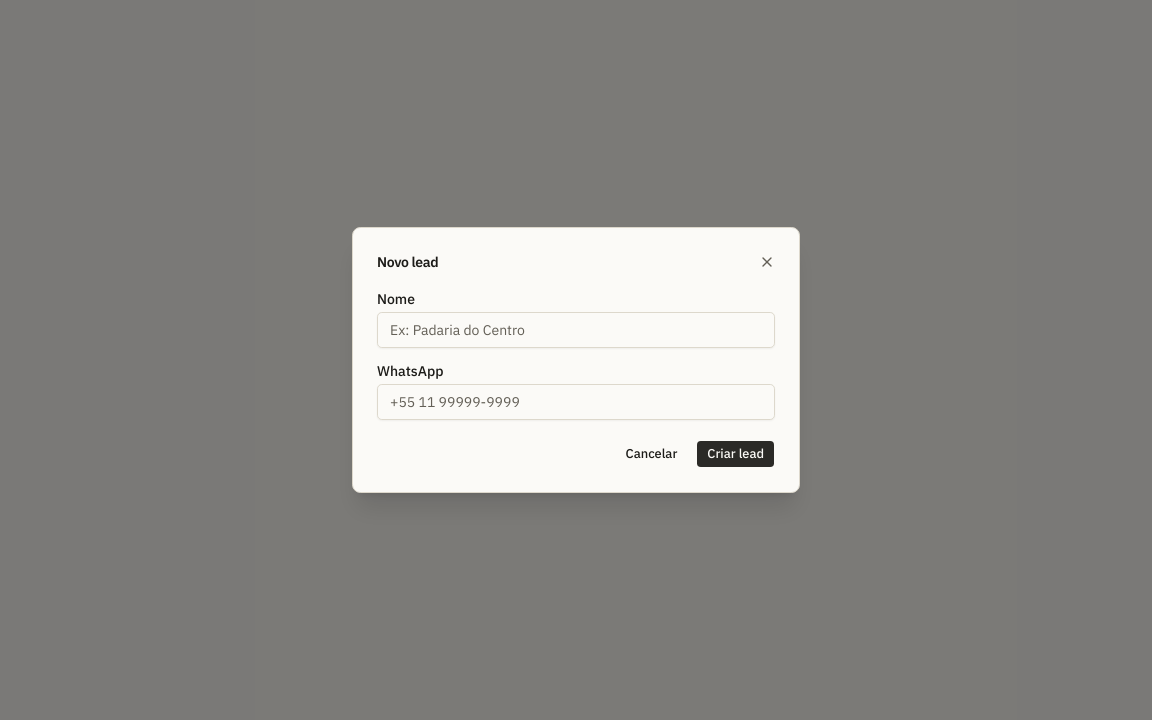
Test case: B48-04 — salvar confirma › CA-B48-09: criar lead mostra 'Lead criado'
This screenshot has width=1152, height=720.
B48-18: o Novo lead pede o nome (obrigatório) e depois o WhatsApp
In the field labelled "Nome": (576,330) [377,312,775,348], type "Ana"
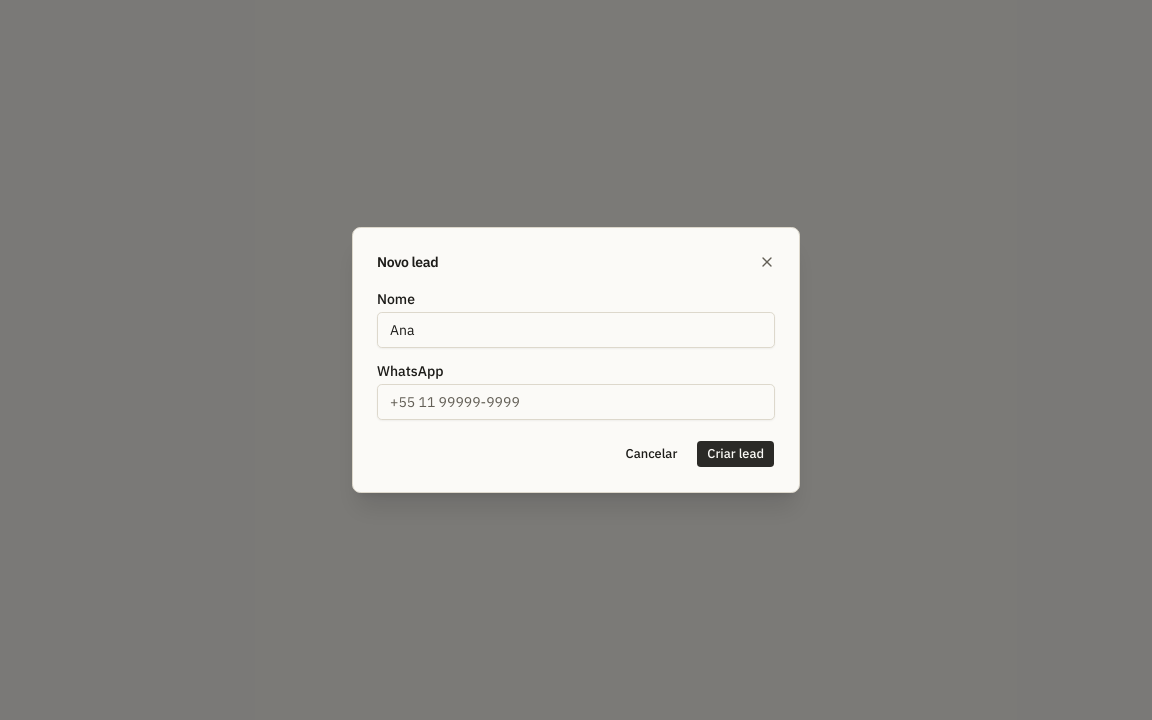
In the field labelled "WhatsApp": (576,402) [377,384,775,420], type "11999990000"
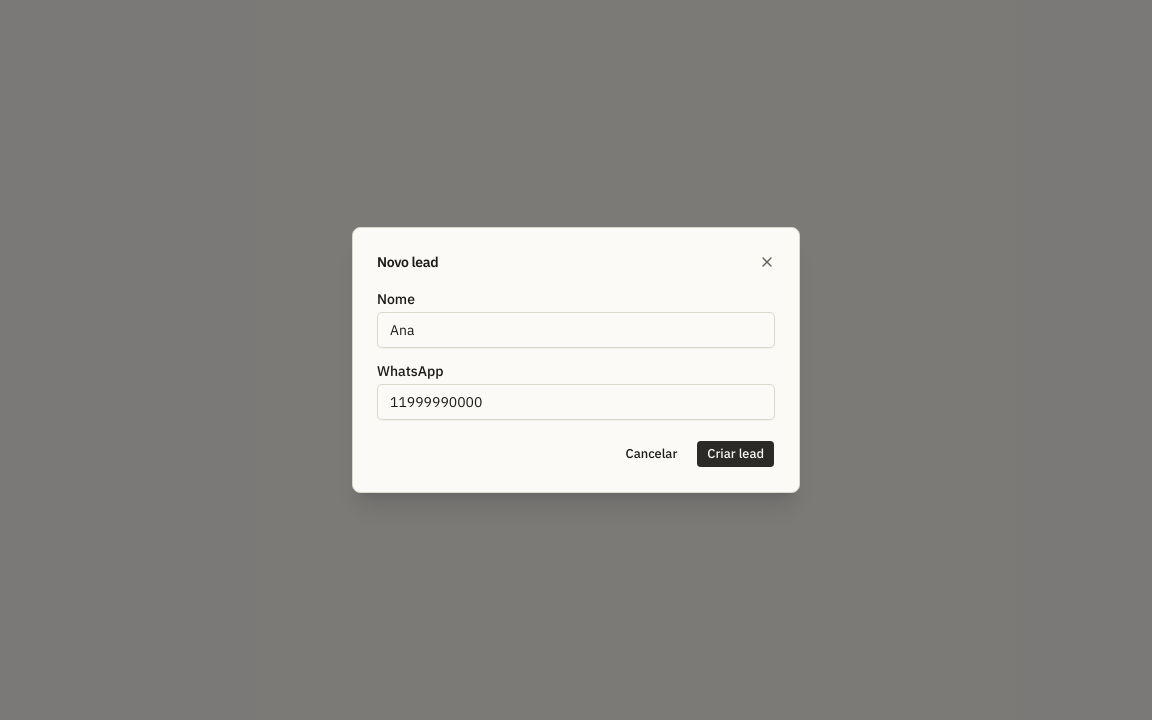
Click the button "Criar lead": (736,454) [696,440,775,468]
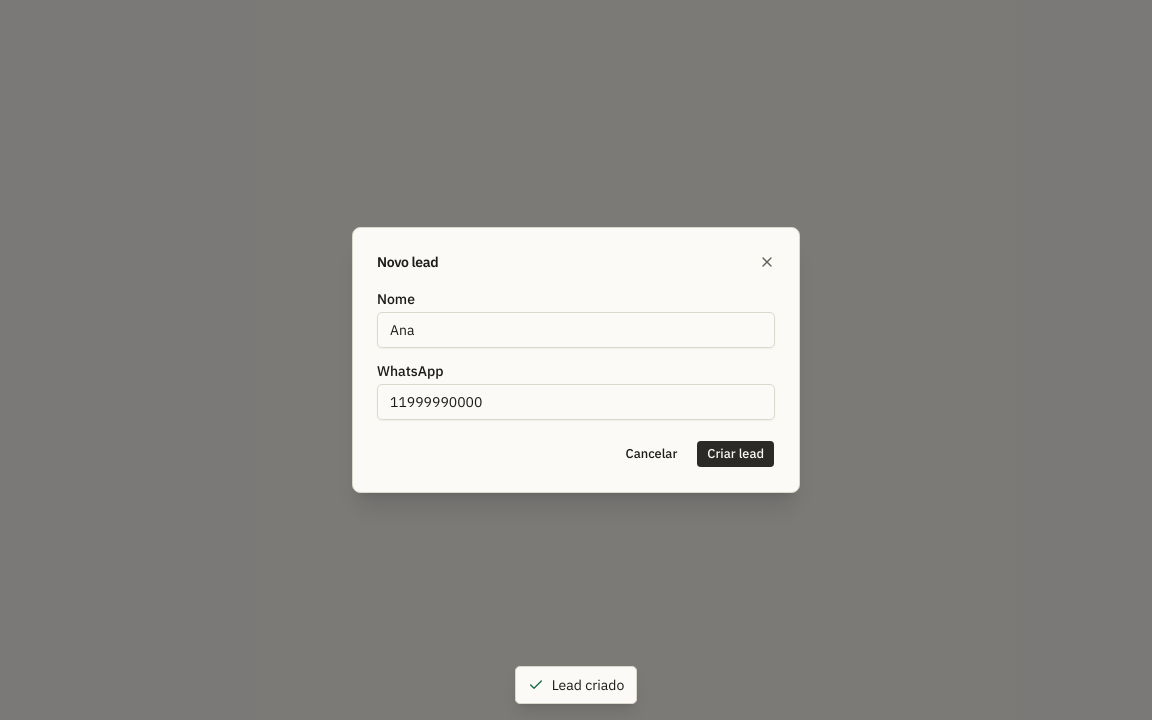
Check: the message reads "Lead criado", box [552,676,624,694]
